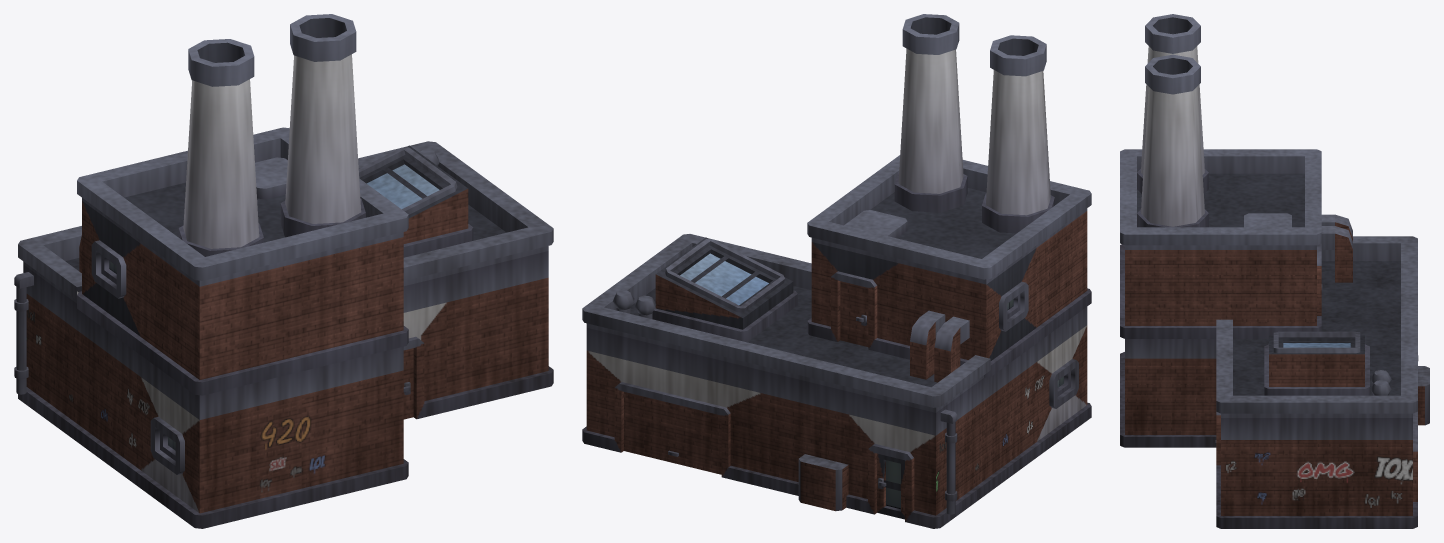
Rendered from building-e-brown-scuffed.glb.
3 renders of one model, left to right at view 1: azimuth 30°, elevation 25°; view 2: azimuth 150°, elevation 25°; view 3: azimuth 270°, elevation 25°, orthographic. The views are drawn at different scales.
Visible parts, largest first — view 1: building-e; view 2: building-e; view 3: building-e.
Part boxes in pixels (<box>): building-e: <box>14,14,553,528</box>; building-e: <box>582,14,1091,528</box>; building-e: <box>1120,14,1429,528</box>.
Bounding box in the file's own units: 1.68 × 1.65 × 1.29.
1 material, 1 textured.
